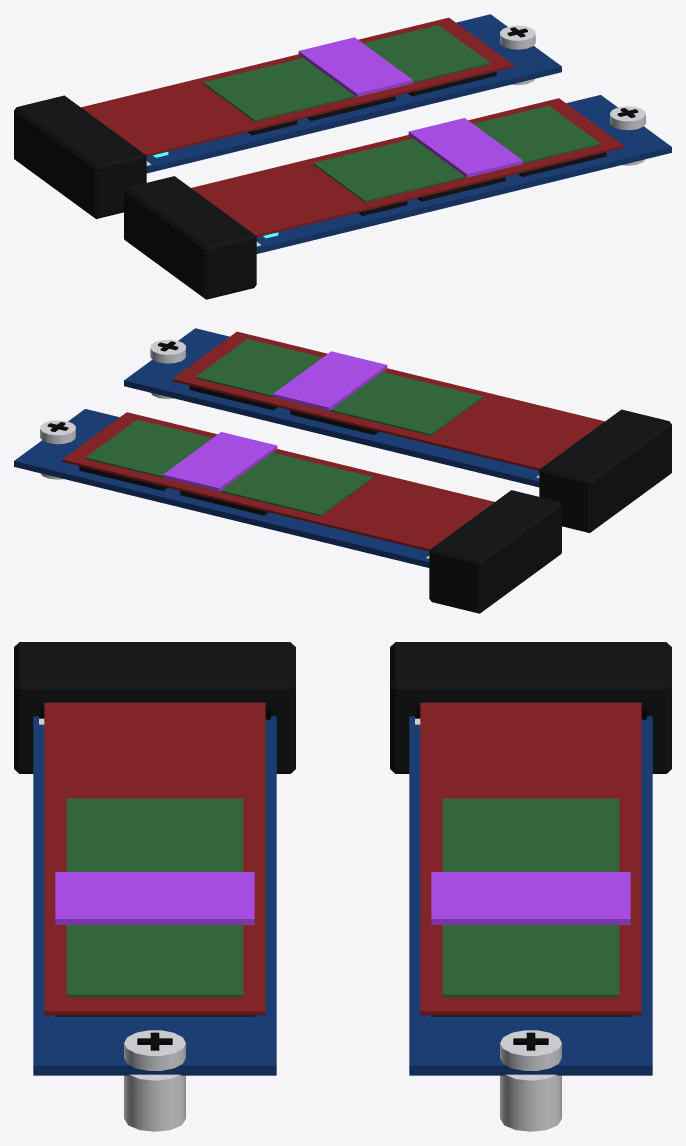
Rendered from hwm_sto_hdd_20tb.glb.
The picture shows the model from 3 angles, top to bottom: view 1: azimuth 30°, elevation 25°; view 2: azimuth 150°, elevation 25°; view 3: azimuth 270°, elevation 25°; orthographic projection. The views are drawn at different scales.
Parts seen in each view (by area): view 1: SSD_0, SSD_1, Slots, Screw_0, Screw_1; view 2: SSD_1, SSD_0, Slots, Screw_1, Screw_0; view 3: SSD_0, SSD_1, Slots, Screw_0, Screw_1.
Boxes of the visible parts, bbox=[...] form: SSD_0: bbox=[81, 14, 561, 173]; SSD_1: bbox=[191, 95, 671, 253]; Slots: bbox=[14, 45, 645, 299]; Screw_0: bbox=[500, 25, 535, 49]; Screw_1: bbox=[610, 106, 645, 130]; SSD_1: bbox=[124, 328, 604, 487]; SSD_0: bbox=[14, 409, 494, 567]; Slots: bbox=[40, 359, 671, 613]; Screw_1: bbox=[150, 339, 185, 363]; Screw_0: bbox=[40, 420, 75, 444]; SSD_0: bbox=[409, 702, 652, 1075]; SSD_1: bbox=[33, 702, 276, 1075]; Slots: bbox=[14, 642, 671, 1131]; Screw_0: bbox=[500, 1030, 561, 1070]; Screw_1: bbox=[124, 1030, 185, 1070].
Size of the model in its own units: 0.0855 by 0.0092 by 0.0595.
